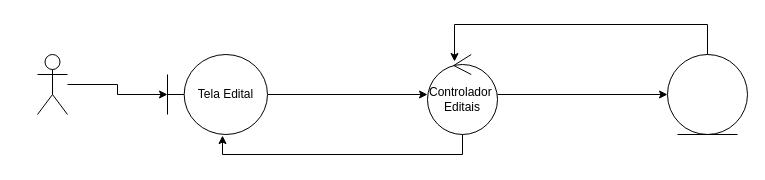
The diagram is 765 pixels wide and 180 high, and some of its shapes have lost their labels. The box of each missing label's shape, as (x1, y1, x2, y2) in pixels:
BD Editais: (666, 54, 748, 134)
Coordenador: (36, 54, 68, 114)
